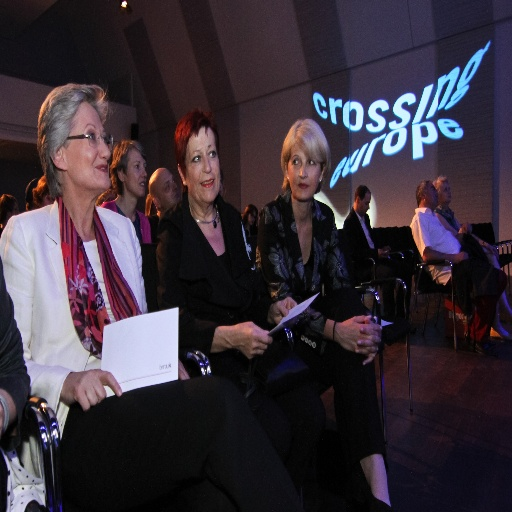hand: (58, 371, 112, 421), (335, 314, 380, 356), (233, 319, 272, 361), (354, 317, 382, 369), (270, 296, 298, 326), (177, 357, 192, 382), (454, 251, 469, 263), (459, 222, 471, 236), (489, 244, 500, 258)
